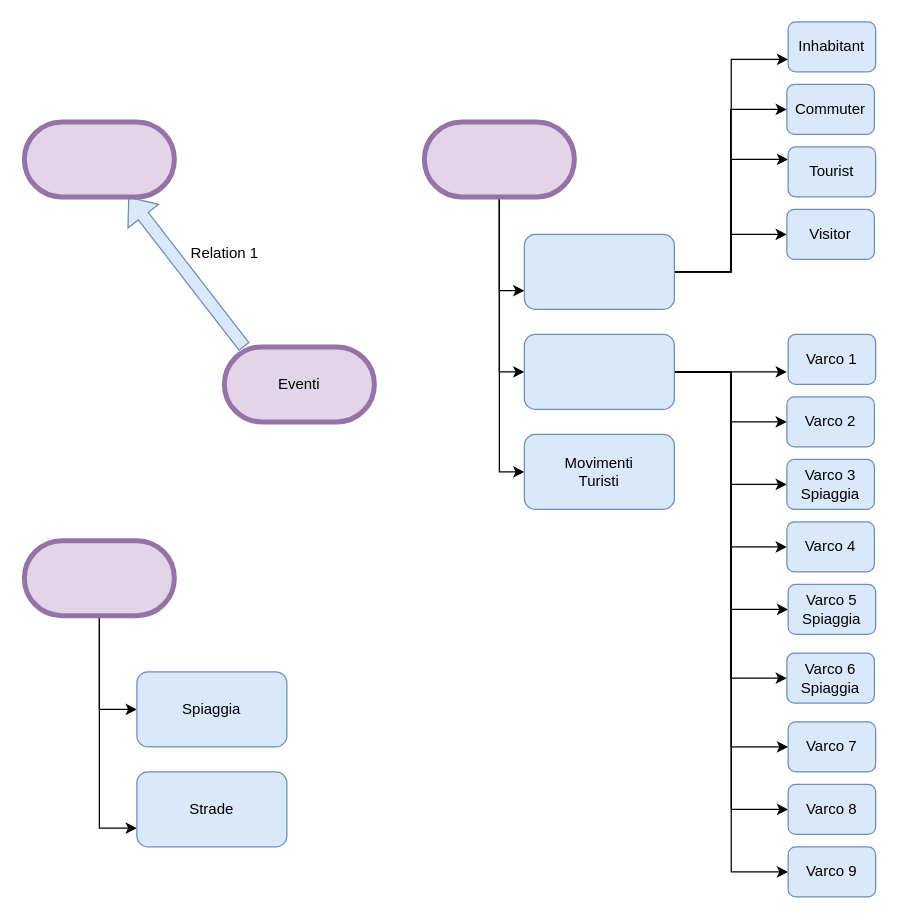
Image size: 898x919. Some labels were removed from this diagram. The centre of each missing label's shape, as x and y in pixels:
"Conta Persone" belongs at (x=598, y=371).
"Parcheggi" belongs at (x=98, y=159).
"Presenze" belongs at (x=498, y=159).
"Traffico" belongs at (x=98, y=578).
"Vodafone" belongs at (x=598, y=271).
